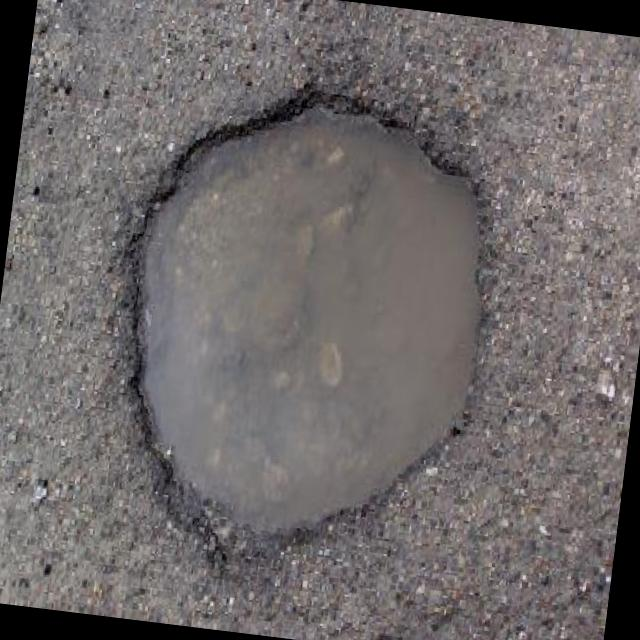Lubang: (126, 84, 492, 556)
